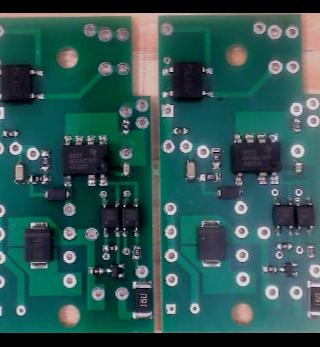chip-capacitor: (183, 158, 196, 184), (13, 160, 25, 186), (120, 161, 131, 178), (292, 159, 302, 175)
chip-resistor: (130, 280, 152, 321), (305, 279, 320, 320), (38, 148, 52, 172), (209, 146, 222, 171), (26, 173, 51, 186), (196, 172, 222, 184), (130, 244, 142, 263), (274, 242, 294, 252), (170, 126, 190, 136), (260, 264, 278, 275), (0, 129, 19, 139), (99, 244, 119, 253), (86, 267, 104, 277), (120, 118, 130, 136), (306, 244, 316, 261), (291, 118, 301, 134)
diode: (23, 221, 53, 271), (196, 220, 226, 269), (43, 188, 71, 203), (214, 186, 242, 200)
ic: (231, 132, 281, 186), (61, 134, 109, 188), (159, 61, 215, 102), (0, 64, 44, 103), (271, 196, 293, 237), (293, 196, 315, 236), (119, 198, 139, 238), (100, 198, 120, 238)
transistor: (278, 262, 299, 278), (104, 264, 124, 280)
